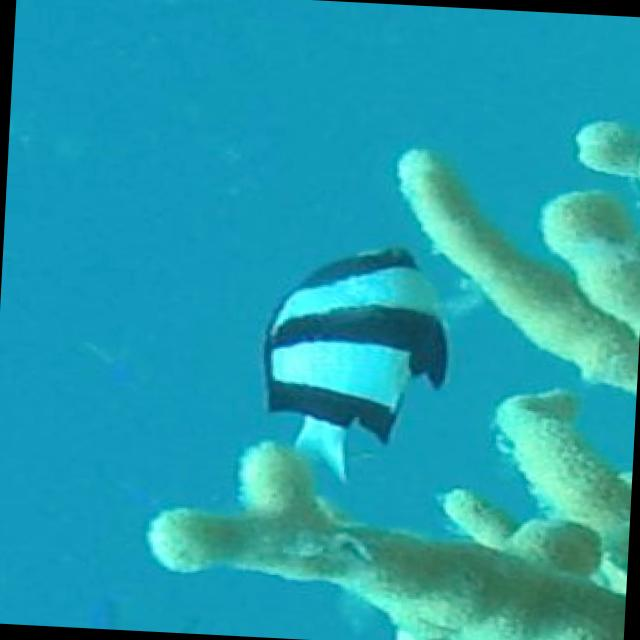ThreeStripedDamselfish: (261, 243, 453, 482)
